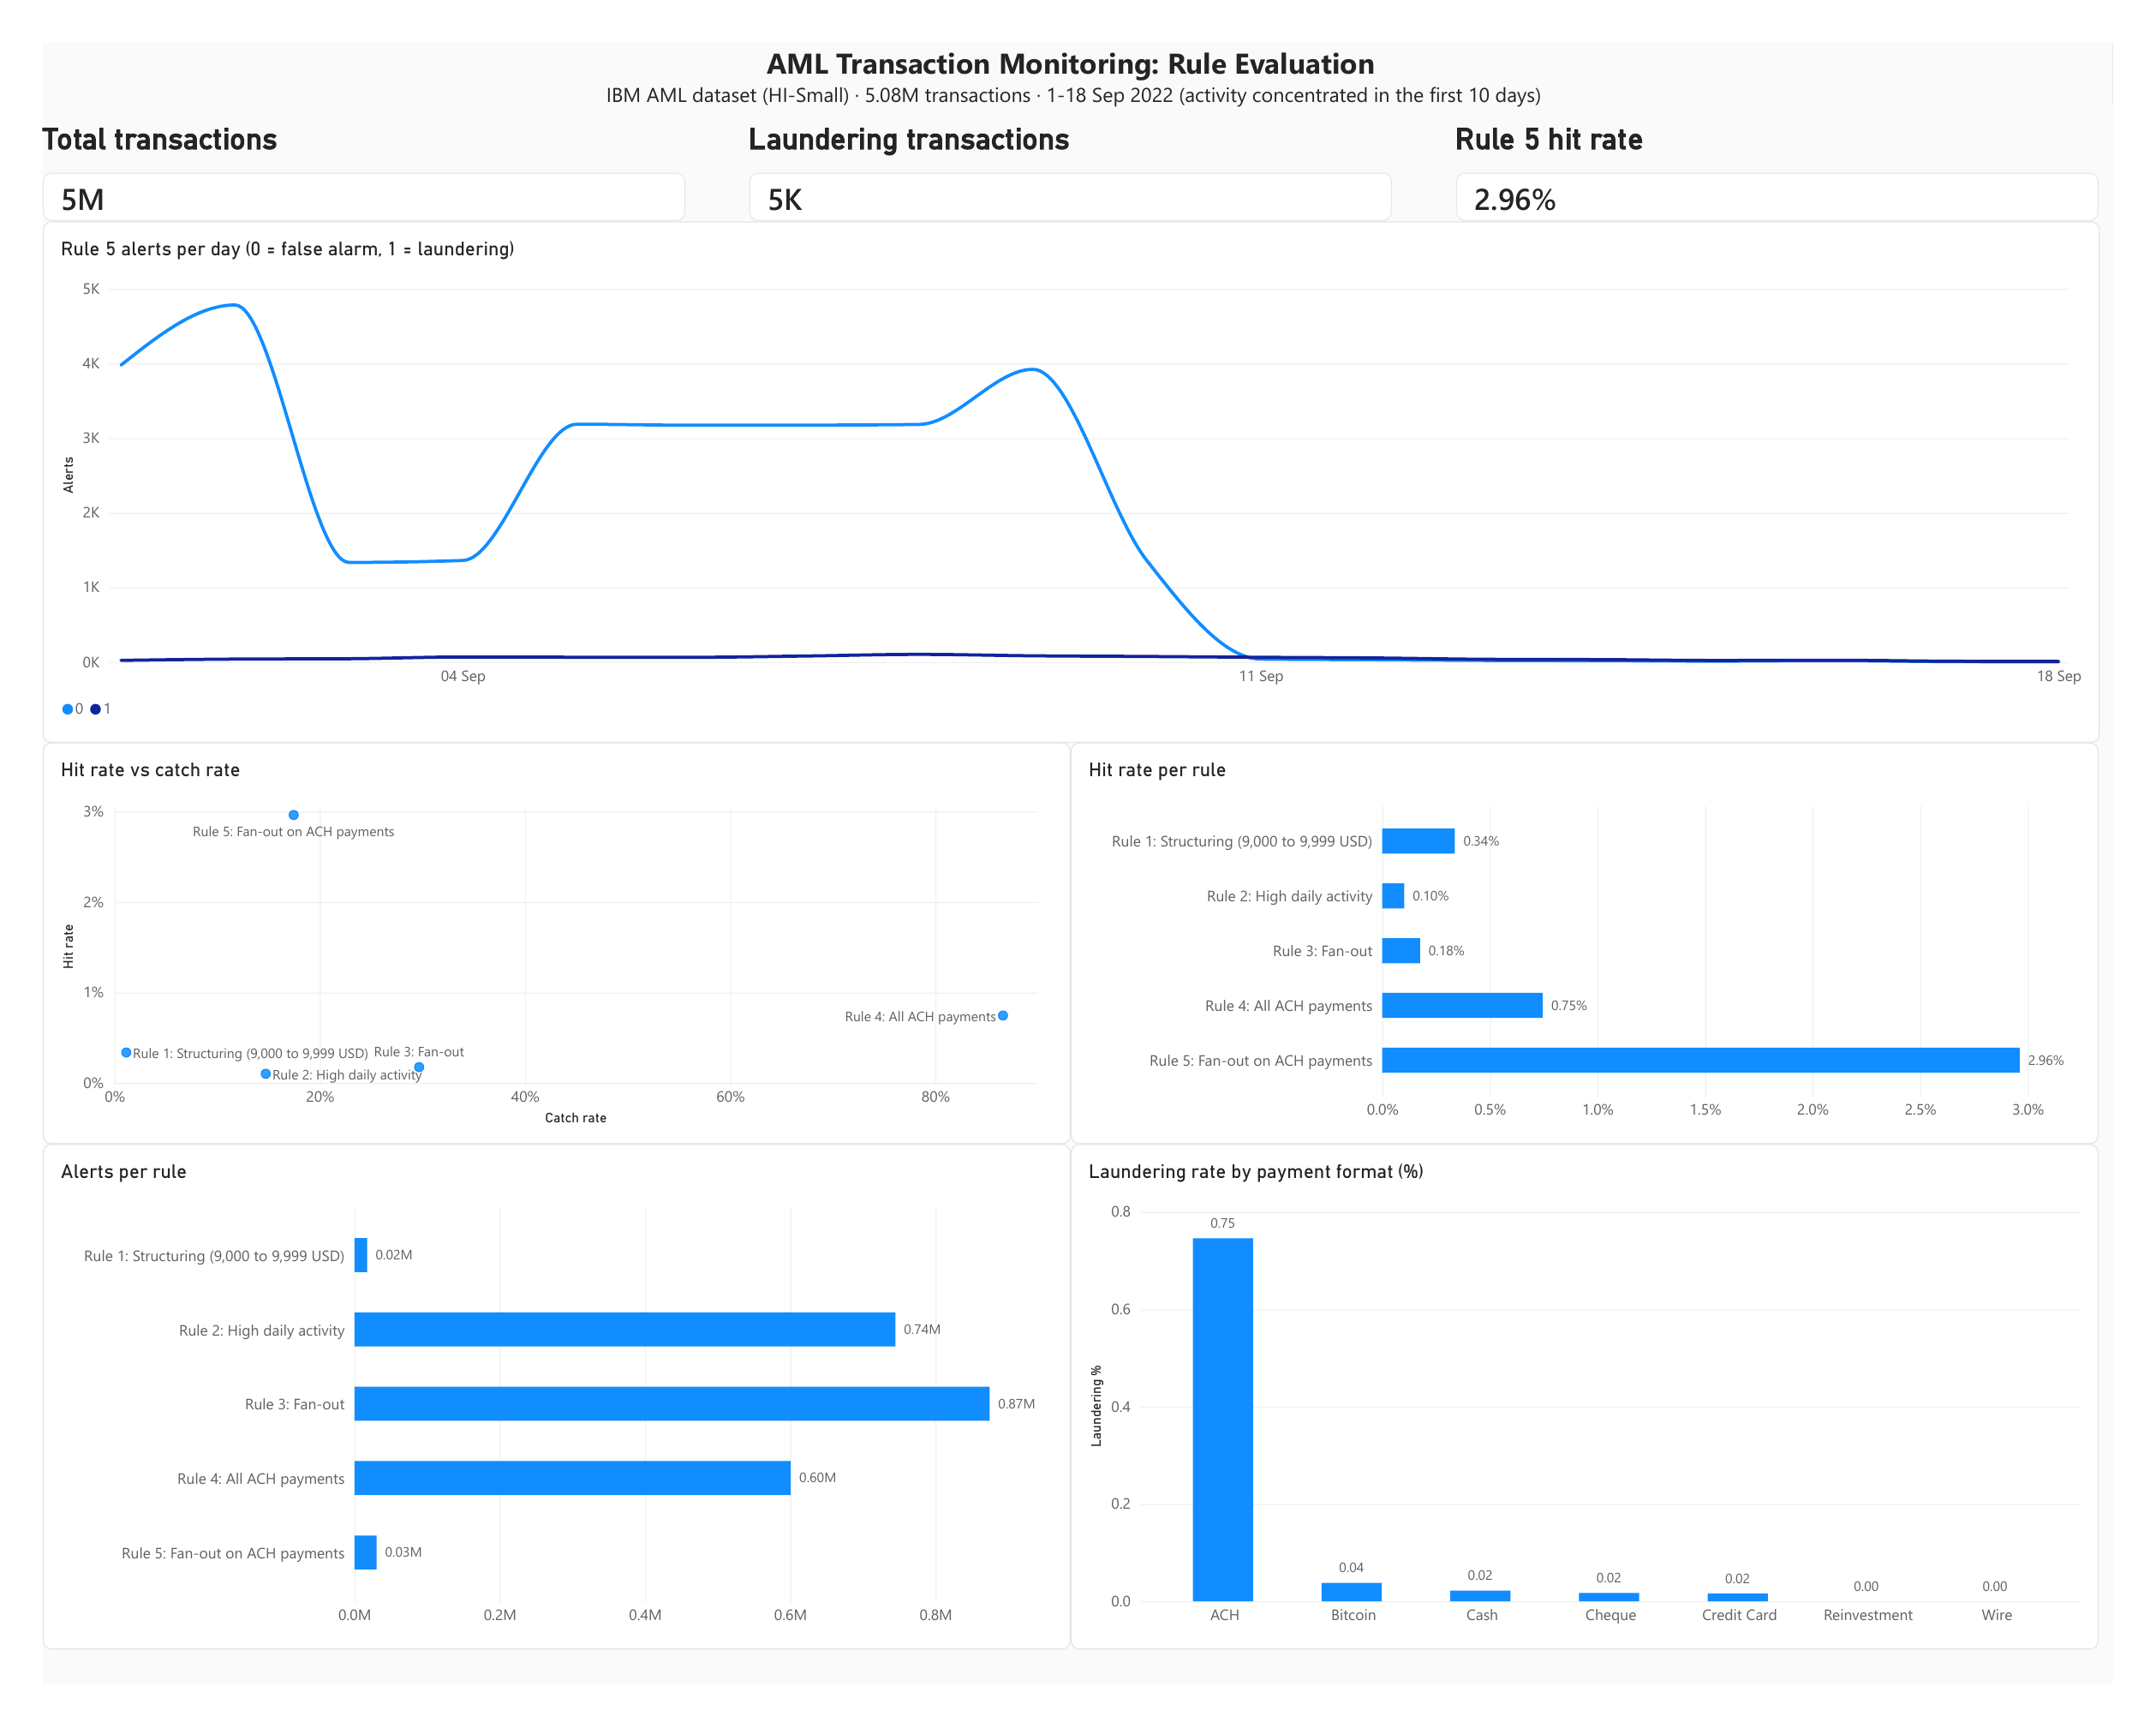

The page's visual inventory and layout, read from the dashboard file:
{"tool":"powerbi","page":{"name":"Page 1","canvas":[1920,1500],"ordinal":0},"visuals":[{"type":"clusteredBarChart","title":"Alerts per rule","fields":{"Category":["rule_summary.rule"],"Y":["Sum(rule_summary.flagged)"]},"box":[0,1028,960.4,472],"z":0},{"type":"clusteredBarChart","title":"Hit rate per rule","fields":{"Category":["rule_summary.rule"],"Y":["Sum(rule_summary.hit_rate)"]},"box":[960.4,653,960.4,375],"z":1},{"type":"scatterChart","title":"Hit rate vs catch rate","fields":{"Category":["rule_summary.rule"],"X":["Sum(rule_summary.catch_rate)"],"Y":["Sum(rule_summary.hit_rate)"]},"box":[0,653,960.4,375],"z":2},{"type":"clusteredColumnChart","title":"Laundering rate by payment format (%)","fields":{"Category":["payment_format_summary.payment_format"],"Y":["Sum(payment_format_summary.laundering_pct)"]},"box":[960.4,1028,960.4,472],"z":3},{"type":"textbox","box":[0,0,1920.7,73.2],"z":4},{"type":"cardVisual","title":"Total transactions","fields":{"Data":["Sum(payment_format_summary.transactions)"]},"box":[0,73.2,600,93.3],"z":5},{"type":"cardVisual","title":"Laundering transactions","fields":{"Data":["Sum(payment_format_summary.laundering)"]},"box":[660.4,73.2,600,93.3],"z":6},{"type":"cardVisual","title":"Rule 5 hit rate","fields":{"Data":["Sum(rule_summary.hit_rate)"]},"box":[1320.7,73.2,600,93.3],"z":7},{"type":"lineChart","title":"Rule 5 alerts per day (0 = false alarm, 1 = laundering)","fields":{"Category":["rule5_alerts.date"],"Series":["rule5_alerts.is_laundering"],"Y":["CountNonNull(rule5_alerts.from_account)"]},"box":[0,166.5,1920.7,486.6],"z":8}]}

Visuals, with their boxes in screenshot pixels (x1, y1, x2, y2), scaled from the page's 1920x1500 canvas onto the 2156x1728 screenshot:
"Alerts per rule" clusteredBarChart: box=[0, 1184, 1078, 1727]
"Hit rate per rule" clusteredBarChart: box=[1078, 752, 2155, 1184]
"Hit rate vs catch rate" scatterChart: box=[0, 752, 1078, 1184]
"Laundering rate by payment format (%)" clusteredColumnChart: box=[1078, 1184, 2155, 1727]
textbox: box=[0, 0, 2155, 84]
"Total transactions" cardVisual: box=[0, 84, 674, 192]
"Laundering transactions" cardVisual: box=[742, 84, 1415, 192]
"Rule 5 hit rate" cardVisual: box=[1483, 84, 2155, 192]
"Rule 5 alerts per day (0 = false alarm, 1 = laundering)" lineChart: box=[0, 192, 2155, 752]
